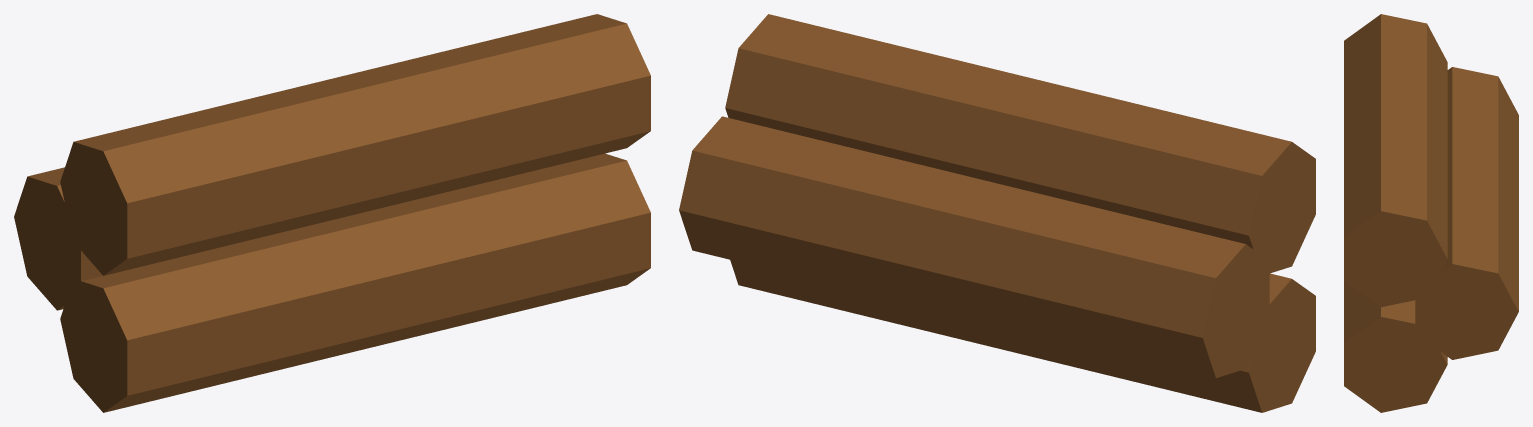
Rendered from pieza-villager-load-wood-DjaTkd9v.glb.
The picture shows the model from 3 angles, left to right: view 1: azimuth 30°, elevation 25°; view 2: azimuth 150°, elevation 25°; view 3: azimuth 270°, elevation 25°; orthographic projection. The views are drawn at different scales.
Parts seen in each view (by area): view 1: prop_load_wood; view 2: prop_load_wood; view 3: prop_load_wood.
Part boxes in pixels (x1,y1,x2,y2): prop_load_wood: [14, 14, 650, 412]; prop_load_wood: [679, 14, 1315, 412]; prop_load_wood: [1344, 14, 1518, 412].
Size of the model in its own units: 3.6 by 1.72 by 1.35.
